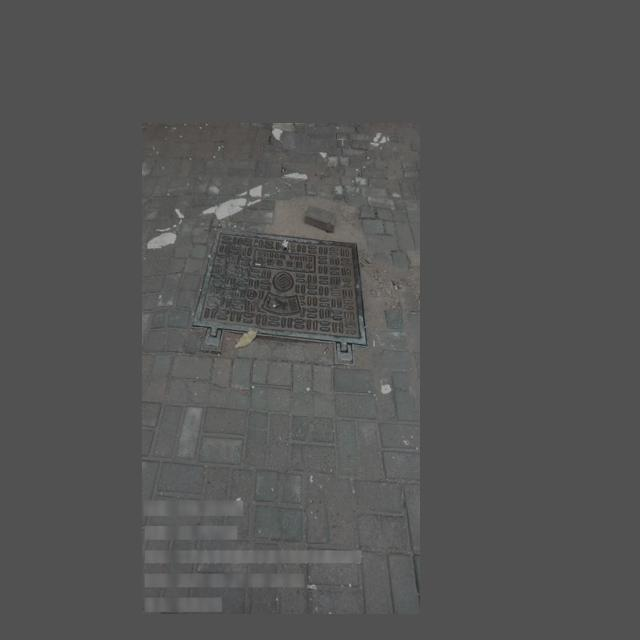good: (207, 225, 363, 349)
